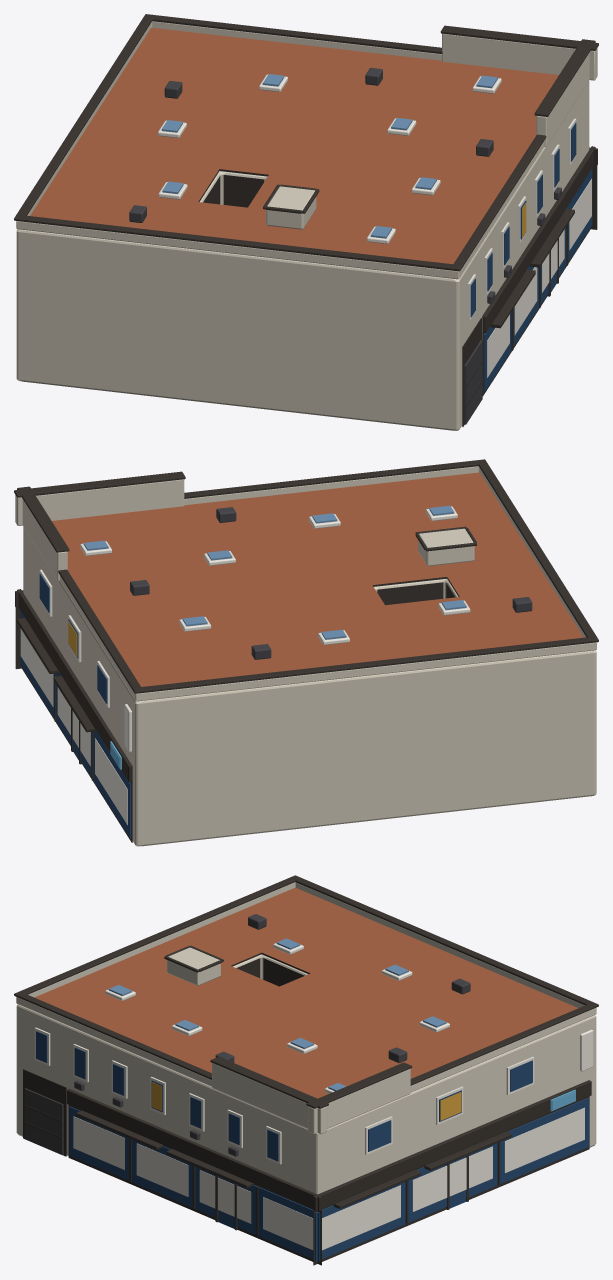
Rendered from 590-third.glb.
3 renders of one model, top to bottom at view 1: azimuth 30°, elevation 25°; view 2: azimuth 150°, elevation 25°; view 3: azimuth 270°, elevation 25°, orthographic. The views are drawn at different scales.
Parts seen in each view (by area): view 1: roof_field, body, grp_Toy_ink, grp_Toy_stone, grp_Toy_glass, grp_Toy_trim_Glow, grp_Toy_trim, grp_Toy_roofd, grp_Toy_glassl; view 2: body, roof_field, grp_Toy_ink, grp_Toy_stone, grp_Toy_trim_Glow, grp_Toy_glass, grp_Toy_trim, grp_Toy_glassl, grp_Toy_roofd; view 3: roof_field, body, grp_Toy_ink, grp_Toy_trim_Glow, grp_Toy_glass, grp_Toy_stone, grp_Toy_trim, grp_Toy_roofd, grp_Toy_glassl, grp_Toy_mustard_Glow.
Boxes of the visible parts, left/top/right/bottom form: roof_field: left=30, top=27, right=558, bottom=264; body: left=16, top=80, right=589, bottom=430; grp_Toy_ink: left=14, top=14, right=598, bottom=426; grp_Toy_stone: left=16, top=21, right=597, bottom=279; grp_Toy_glass: left=470, top=122, right=592, bottom=391; grp_Toy_trim_Glow: left=487, top=179, right=591, bottom=377; grp_Toy_trim: left=158, top=74, right=576, bottom=321; grp_Toy_roofd: left=129, top=68, right=561, bottom=424; grp_Toy_glassl: left=161, top=74, right=497, bottom=238; body: left=23, top=526, right=596, bottom=846; roof_field: left=52, top=472, right=583, bottom=686; grp_Toy_ink: left=14, top=459, right=598, bottom=842; grp_Toy_stone: left=15, top=466, right=596, bottom=701; grp_Toy_trim_Glow: left=20, top=628, right=127, bottom=825; grp_Toy_glass: left=20, top=573, right=131, bottom=838; grp_Toy_trim: left=39, top=506, right=470, bottom=751; grp_Toy_glassl: left=83, top=505, right=466, bottom=639; grp_Toy_roofd: left=130, top=507, right=532, bottom=659; roof_field: left=34, top=887, right=578, bottom=1098; body: left=16, top=954, right=596, bottom=1194; grp_Toy_ink: left=14, top=875, right=598, bottom=1265; grp_Toy_trim_Glow: left=73, top=1107, right=584, bottom=1250; grp_Toy_glass: left=36, top=1031, right=589, bottom=1261; grp_Toy_stone: left=16, top=882, right=596, bottom=1134; grp_Toy_trim: left=34, top=943, right=593, bottom=1164; grp_Toy_roofd: left=24, top=914, right=470, bottom=1156; grp_Toy_glassl: left=108, top=938, right=446, bottom=1091; grp_Toy_mustard_Glow: left=152, top=1082, right=461, bottom=1120.
Bounding box in the file's own units: 31.91 × 9.5 × 31.53.
